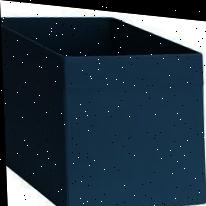cube: (0, 6, 206, 206)
